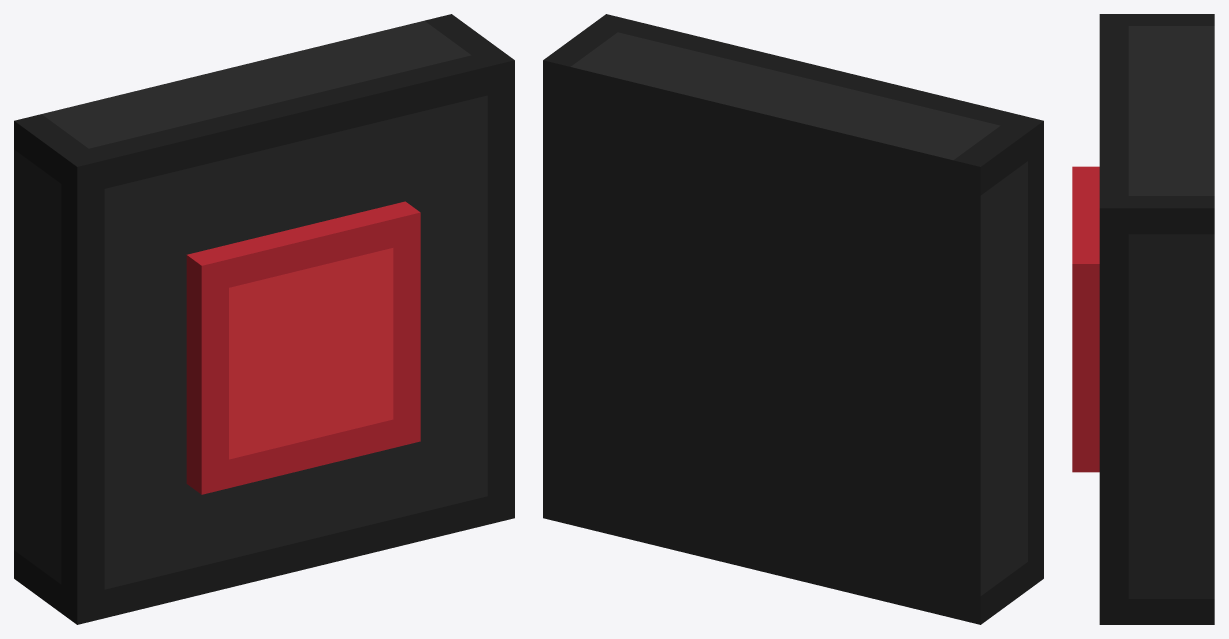
The model's file is WallButton.fbx.
3 views of the same model, side by side, from view 1: azimuth 30°, elevation 25°; view 2: azimuth 150°, elevation 25°; view 3: azimuth 270°, elevation 25° (orthographic). The views are drawn at different scales.
Visible parts, largest first — view 1: Cube, Cube.001; view 2: Cube; view 3: Cube, Cube.001.
Part boxes in pixels (x1=…): Cube: x1=14, y1=14, x2=514, y2=624; Cube.001: x1=186, y1=201, x2=420, y2=494; Cube: x1=543, y1=14, x2=1043, y2=624; Cube: x1=1099, y1=14, x2=1214, y2=624; Cube.001: x1=1072, y1=166, x2=1099, y2=472.
Bounding box in the file's own units: 50 × 50 × 15.49.
